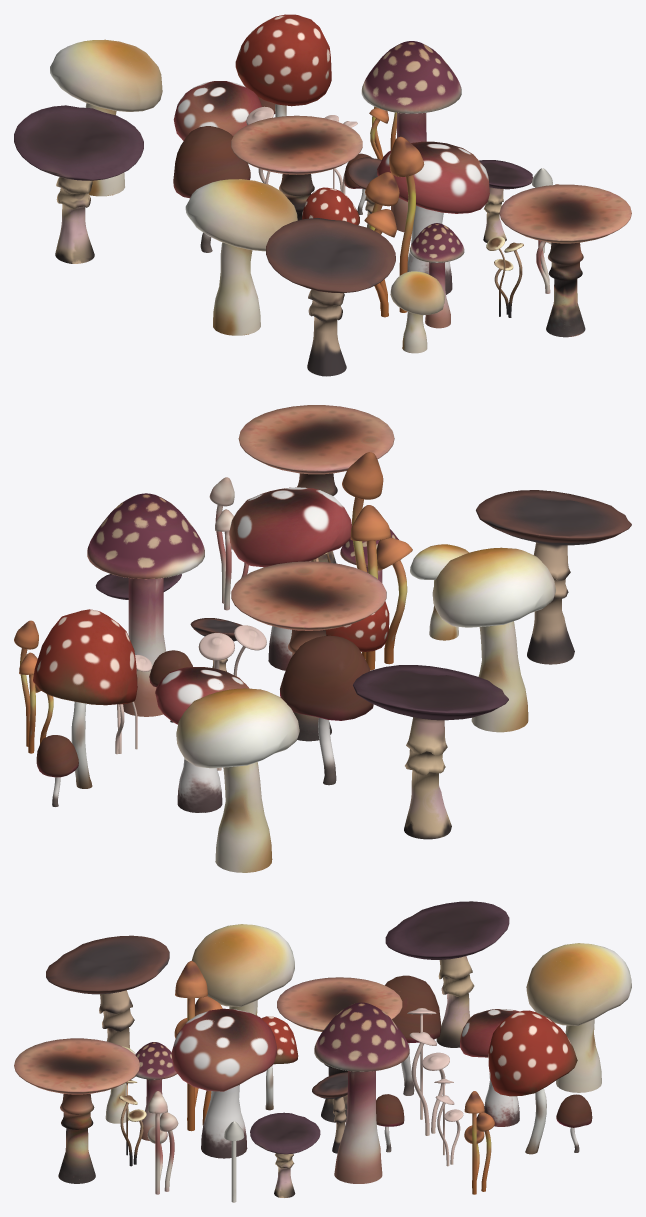
The model's file is ground mushrooms.fbx.
3 views of the same model, one above another, from view 1: azimuth 30°, elevation 25°; view 2: azimuth 150°, elevation 25°; view 3: azimuth 270°, elevation 25° (orthographic). The views are drawn at different scales.
Visible parts, largest first — view 1: mushroom_C2, Mushroom_C3, mushroom_A6, mushroom_C4, mushroom_A1, mushroom_C1, mushroom_A, Mushroom_B, mushroom_A3, Mushroom_B7, mushroom_A9, mushroom_A4 (+7 smaller); view 2: mushroom_A, mushroom_A6, Mushroom_B, mushroom_C2, Mushroom_C3, mushroom_C1, mushroom_A1, mushroom_C4, mushroom_A3, mushroom_A9, Mushroom_B7, mushroom_A4 (+10 smaller); view 3: mushroom_A3, Mushroom_B, mushroom_A, mushroom_C4, mushroom_C2, Mushroom_C3, mushroom_A6, mushroom_A1, mushroom_C1, mushroom_C3, mushroom_A9, mushroom_A4 (+13 smaller).
Boxes of the visible parts, x1,y1,x2,y2 form: mushroom_C2: (14,105,143,263); Mushroom_C3: (266,218,395,376); mushroom_A6: (185,179,297,335); mushroom_C4: (499,184,631,337); mushroom_A1: (235,14,331,117); mushroom_C1: (231,115,362,220); mushroom_A: (50,39,162,196); Mushroom_B: (361,41,461,232); mushroom_A3: (377,141,489,294); Mushroom_B7: (364,136,424,317); mushroom_A9: (173,126,250,252); mushroom_A4: (173,81,261,140); mushroom_A: (176,688,299,872); mushroom_A6: (432,547,555,732); Mushroom_B: (87,493,204,716); mushroom_C2: (353,665,508,839); Mushroom_C3: (476,490,631,664); mushroom_C1: (231,561,386,741); mushroom_A1: (33,609,137,788); mushroom_C4: (238,405,394,563); mushroom_A3: (229,487,351,670); mushroom_A9: (280,635,373,785); Mushroom_B7: (342,452,412,670); mushroom_A4: (155,667,249,812); mushroom_A3: (171,1008,276,1158); Mushroom_B: (314,1002,409,1183); mushroom_A: (526,943,631,1092); mushroom_C4: (14,1038,140,1183); mushroom_C2: (385,901,509,1047); Mushroom_C3: (46,935,169,1048); mushroom_A6: (191,924,294,1015); mushroom_A1: (488,1010,577,1154); mushroom_C1: (277,977,402,1122); mushroom_C3: (250,1112,320,1197); mushroom_A9: (385,975,440,1095); mushroom_A4: (460,1009,519,1126).
Size of the model in its own units: 359 by 149 by 477.
